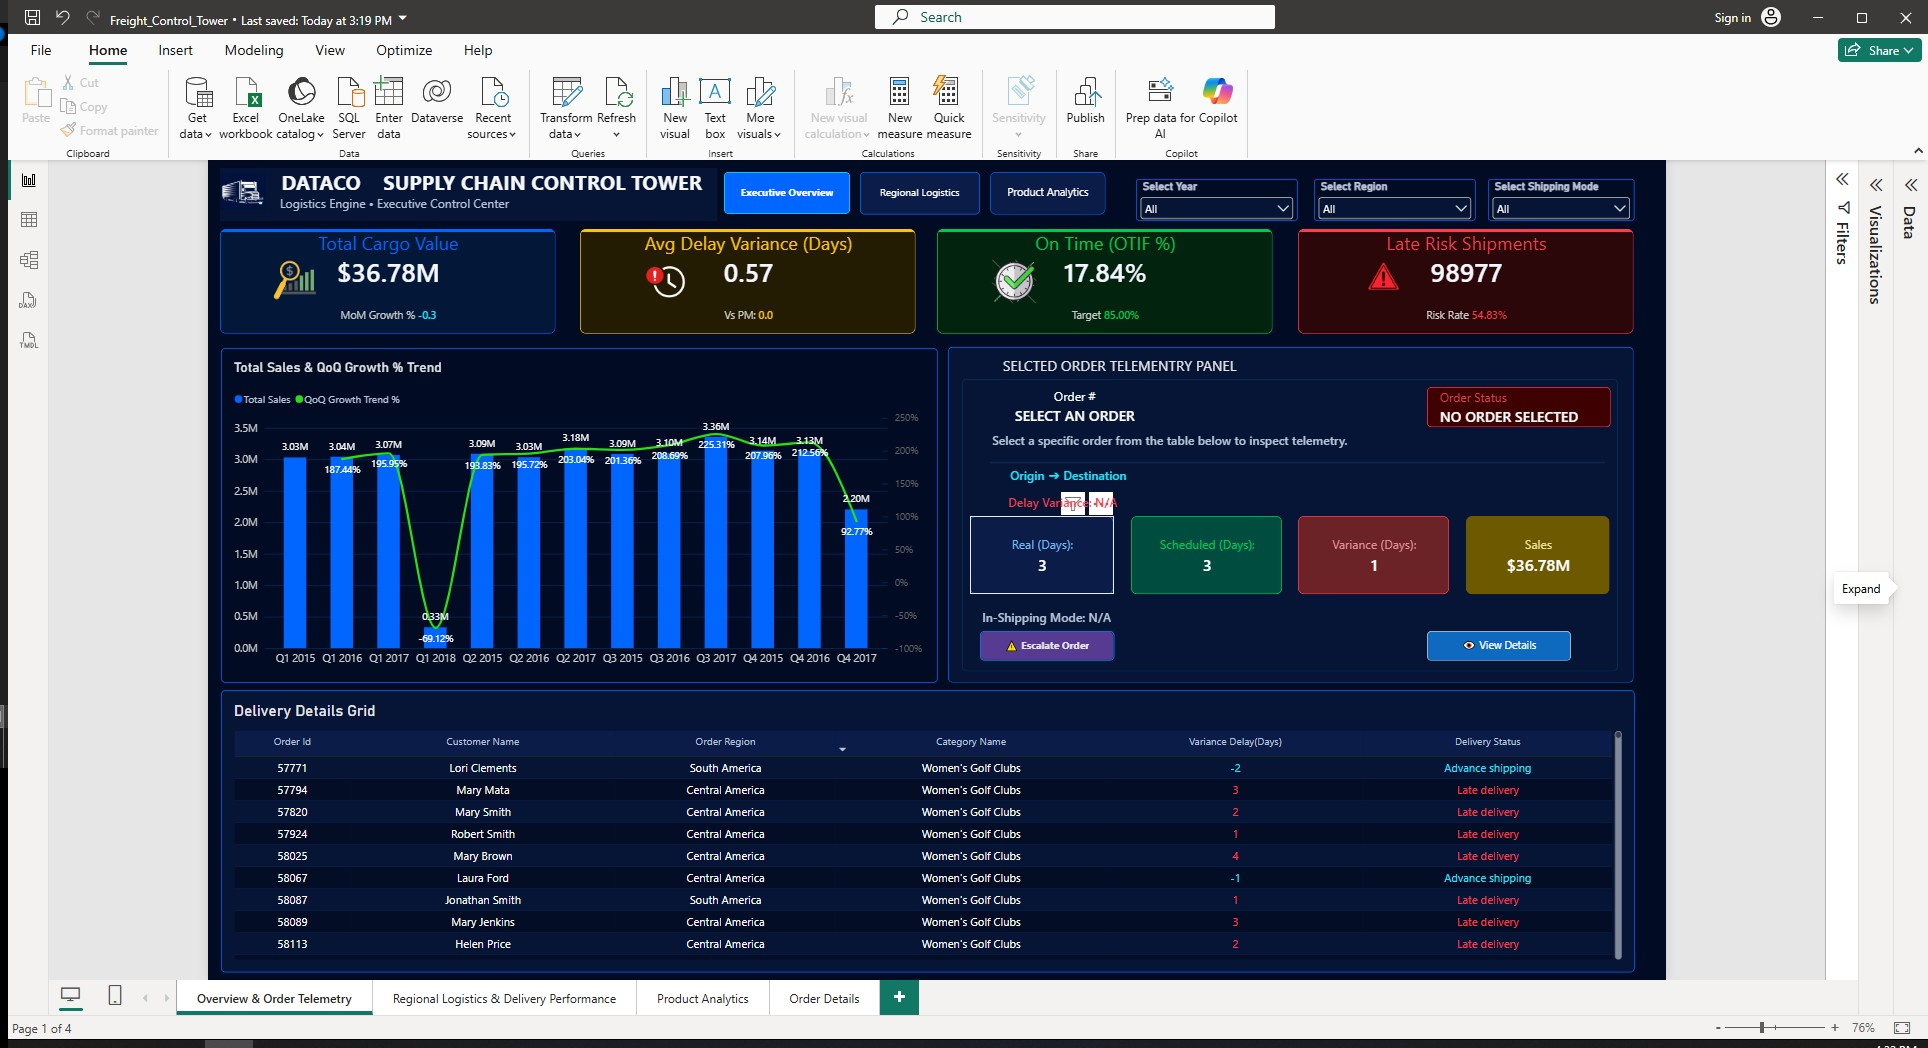

The dashboard page shown, as its layout file describes it:
{"tool":"powerbi","page":{"name":"Overview & Order Telemetry","canvas":[1920,1080],"ordinal":0},"visuals":[{"type":"shape","box":[974.6,246.6,903.1,442.1],"z":0},{"type":"shape","box":[993.6,288.9,863.7,385.2],"z":1000},{"type":"textbox","title":"DATACO SUPPLY CHAIN CONTROL TOWER","box":[15.9,10.6,654.6,70.2],"z":2000},{"type":"cardVisual","fields":{"Data":["_Key Measures.Total Cargo Value"]},"box":[16,90.5,442.1,138.6],"z":3000},{"type":"cardVisual","fields":{"Data":["_Key Measures.Avg Delay Variance (Days)"]},"box":[490.2,90.5,442.1,138.6],"z":4000},{"type":"cardVisual","fields":{"Data":["_Key Measures.OTIF %"]},"box":[960,90.5,442.1,138.6],"z":5000},{"type":"cardVisual","fields":{"Data":["_Key Measures.Late Risk Shipments"]},"box":[1435.6,90.5,442.1,138.6],"z":6000},{"type":"lineStackedColumnComboChart","title":"Total Sales & QoQ Growth % Trend","fields":{"Y":["_Key Measures.Total Sales"],"Y2":["_Key Measures.MoM Growth Trend %"],"Category":["DataCoSupplyChainDataset.Quarter-Year"]},"box":[16.5,247.3,944.3,440.7],"z":7000},{"type":"cardVisual","fields":{"Data":["Avg(DataCoSupplyChainDataset.Real Shipping Days)"]},"box":[1003.8,468.3,189.7,103.6],"z":8000},{"type":"cardVisual","fields":{"Data":["Avg(DataCoSupplyChainDataset.Scheduled Shipping Days)"]},"box":[1215.3,468.3,199.9,103.6],"z":9000},{"type":"cardVisual","fields":{"Data":["_Key Measures.Avg Delay Variance (Days)"]},"box":[1435.6,468.3,199.9,103.6],"z":10000},{"type":"cardVisual","fields":{"Data":["Sum(DataCoSupplyChainDataset.Sales)"]},"box":[1657.4,468.3,189.7,103.6],"z":11000},{"type":"textbox","box":[1047.5,258.2,872.5,30.6],"z":12000},{"type":"cardVisual","fields":{"Data":["_Key Measures.Selected Order ID"]},"box":[1016.9,299.1,250.9,54],"z":13000},{"type":"cardVisual","fields":{"Data":["_Key Measures.Selected Order Status Badge"]},"box":[1604.9,299.1,242.2,54],"z":14000},{"type":"cardVisual","fields":{"Data":["_Key Measures.Selected Order Details"]},"box":[1016.9,353.1,507.7,32.1],"z":15000},{"type":"cardVisual","fields":{"Data":["_Key Measures.Selected Order Route"]},"box":[1040.2,396.8,771.8,36.5],"z":16000},{"type":"shape","box":[1030,385.2,809.7,27.7],"z":17000},{"type":"cardVisual","fields":{"Data":["_Key Measures.Selected Order Delay Banner"]},"box":[1037.3,433.3,334.1,35],"z":18000},{"type":"actionButton","title":"⚠️  Escalate Order","box":[1016.9,620.1,176.5,39.4],"z":19000},{"type":"actionButton","box":[1604.9,620.1,189.7,39.4],"z":20000},{"type":"cardVisual","fields":{"Data":["_Key Measures.Selected Order Shipping Mode"]},"box":[1003.8,583.6,299.1,36.5],"z":21000},{"type":"tableEx","title":"Delivery Details Grid","fields":{"Values":["DataCoSupplyChainDataset.Order Id","DataCoSupplyChainDataset.Customer Name","DataCoSupplyChainDataset.Order Region","DataCoSupplyChainDataset.Category Name","_Key Measures.Avg Delay Variance (Days)","DataCoSupplyChainDataset.Delivery Status"]},"box":[16.5,698.5,1861.5,371.7],"z":22000},{"type":"slicer","fields":{"Values":["DateTable.Year"]},"box":[1222,24.7,212.6,55.5],"z":23000},{"type":"slicer","fields":{"Values":["DataCoSupplyChainDataset.Order Region"]},"box":[1456.2,24.7,212.6,55.5],"z":24000},{"type":"slicer","fields":{"Values":["DataCoSupplyChainDataset.Shipping Mode"]},"box":[1685.8,24.7,192.6,55.5],"z":25000},{"type":"actionButton","title":"Executive Overview","box":[679.8,15.9,166.4,55.5],"z":25503},{"type":"actionButton","title":"Product Analytics","box":[1029.6,15.9,152.4,55.7],"z":26503},{"type":"actionButton","title":"Regional Logistics","box":[858.6,15.9,157.7,55.7],"z":27003},{"type":"image","box":[16.3,10.9,59.7,61.1],"z":27004},{"type":"image","box":[75.1,125.1,80.3,68.5],"z":27005},{"type":"image","box":[570.3,130.4,65.9,59.3],"z":27006},{"type":"image","box":[1026,130.4,72,59.7],"z":27007},{"type":"image","box":[1506.7,125.1,82.8,55.7],"z":27008}]}

Visuals, with their boxes on the page's 1920x1080 design canvas (x1, y1, x2, y2). These are canvas units, not pixel positions in the 1928x1048 screenshot, which may show the page scaled, cropped or inside an application window:
shape: bbox=[975, 247, 1878, 689]
shape: bbox=[994, 289, 1857, 674]
"DATACO SUPPLY CHAIN CONTROL TOWER" textbox: bbox=[16, 11, 670, 81]
cardVisual - _Key Measures.Total Cargo Value: bbox=[16, 90, 458, 229]
cardVisual - _Key Measures.Avg Delay Variance (Days): bbox=[490, 90, 932, 229]
cardVisual - _Key Measures.OTIF %: bbox=[960, 90, 1402, 229]
cardVisual - _Key Measures.Late Risk Shipments: bbox=[1436, 90, 1878, 229]
"Total Sales & QoQ Growth % Trend" lineStackedColumnComboChart: bbox=[16, 247, 961, 688]
cardVisual - Avg(DataCoSupplyChainDataset.Real Shipping Days): bbox=[1004, 468, 1194, 572]
cardVisual - Avg(DataCoSupplyChainDataset.Scheduled Shipping Days): bbox=[1215, 468, 1415, 572]
cardVisual - _Key Measures.Avg Delay Variance (Days): bbox=[1436, 468, 1636, 572]
cardVisual - Sum(DataCoSupplyChainDataset.Sales): bbox=[1657, 468, 1847, 572]
textbox: bbox=[1048, 258, 1920, 289]
cardVisual - _Key Measures.Selected Order ID: bbox=[1017, 299, 1268, 353]
cardVisual - _Key Measures.Selected Order Status Badge: bbox=[1605, 299, 1847, 353]
cardVisual - _Key Measures.Selected Order Details: bbox=[1017, 353, 1525, 385]
cardVisual - _Key Measures.Selected Order Route: bbox=[1040, 397, 1812, 433]
shape: bbox=[1030, 385, 1840, 413]
cardVisual - _Key Measures.Selected Order Delay Banner: bbox=[1037, 433, 1371, 468]
"⚠️  Escalate Order" actionButton: bbox=[1017, 620, 1193, 660]
actionButton: bbox=[1605, 620, 1795, 660]
cardVisual - _Key Measures.Selected Order Shipping Mode: bbox=[1004, 584, 1303, 620]
"Delivery Details Grid" tableEx: bbox=[16, 698, 1878, 1070]
slicer - DateTable.Year: bbox=[1222, 25, 1435, 80]
slicer - DataCoSupplyChainDataset.Order Region: bbox=[1456, 25, 1669, 80]
slicer - DataCoSupplyChainDataset.Shipping Mode: bbox=[1686, 25, 1878, 80]
"Executive Overview" actionButton: bbox=[680, 16, 846, 71]
"Product Analytics" actionButton: bbox=[1030, 16, 1182, 72]
"Regional Logistics" actionButton: bbox=[859, 16, 1016, 72]
image: bbox=[16, 11, 76, 72]
image: bbox=[75, 125, 155, 194]
image: bbox=[570, 130, 636, 190]
image: bbox=[1026, 130, 1098, 190]
image: bbox=[1507, 125, 1590, 181]
